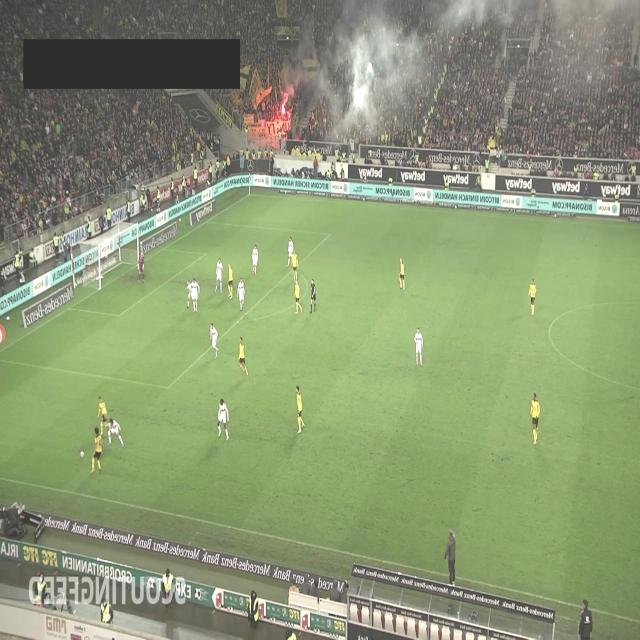ball: (80, 450, 84, 460)
goalkeeper: (137, 249, 145, 283)
player: (90, 427, 104, 475), (529, 392, 541, 446), (217, 397, 229, 441), (295, 385, 305, 434), (108, 417, 124, 447), (97, 395, 107, 437), (238, 336, 248, 378), (414, 328, 423, 367), (190, 277, 200, 312), (528, 278, 536, 316), (210, 322, 218, 359), (215, 257, 223, 293), (237, 276, 245, 312), (294, 280, 302, 314), (291, 249, 299, 282), (286, 236, 294, 267), (227, 262, 233, 300), (399, 257, 405, 291), (252, 244, 258, 276), (186, 279, 192, 309)
referee: (310, 278, 316, 314)
